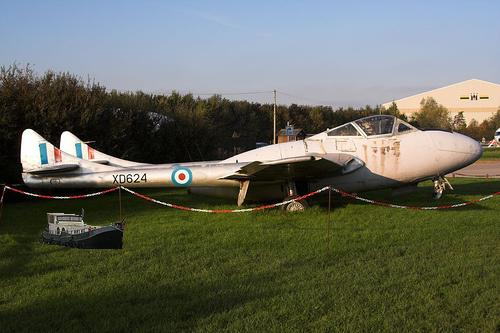tampered: (40, 209, 125, 249)
